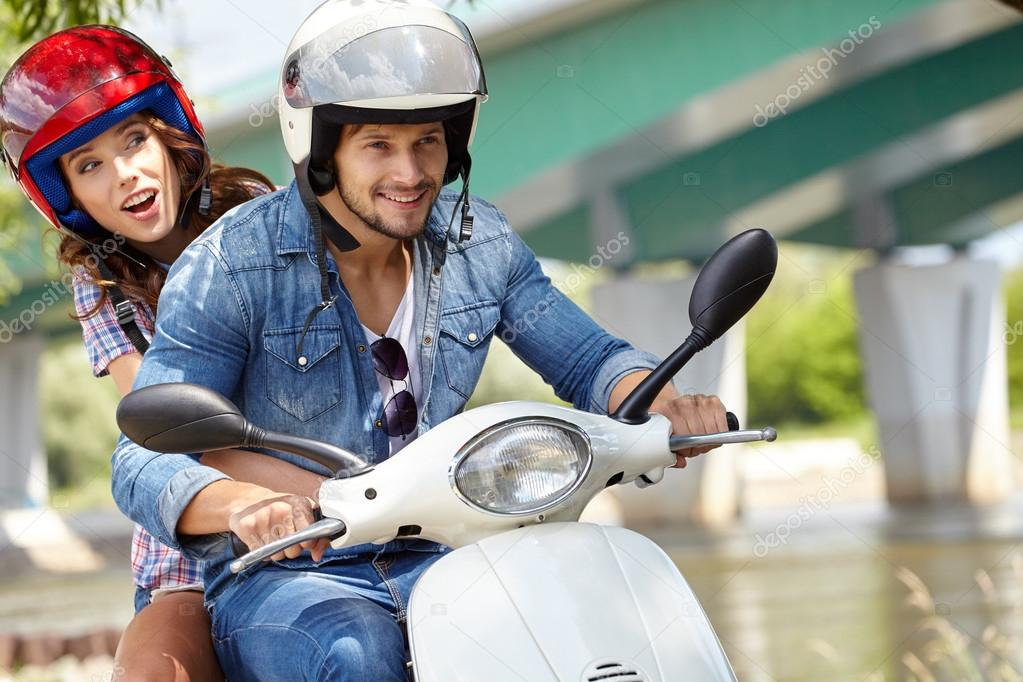helmet: (1, 29, 216, 170), (278, 11, 485, 150)
